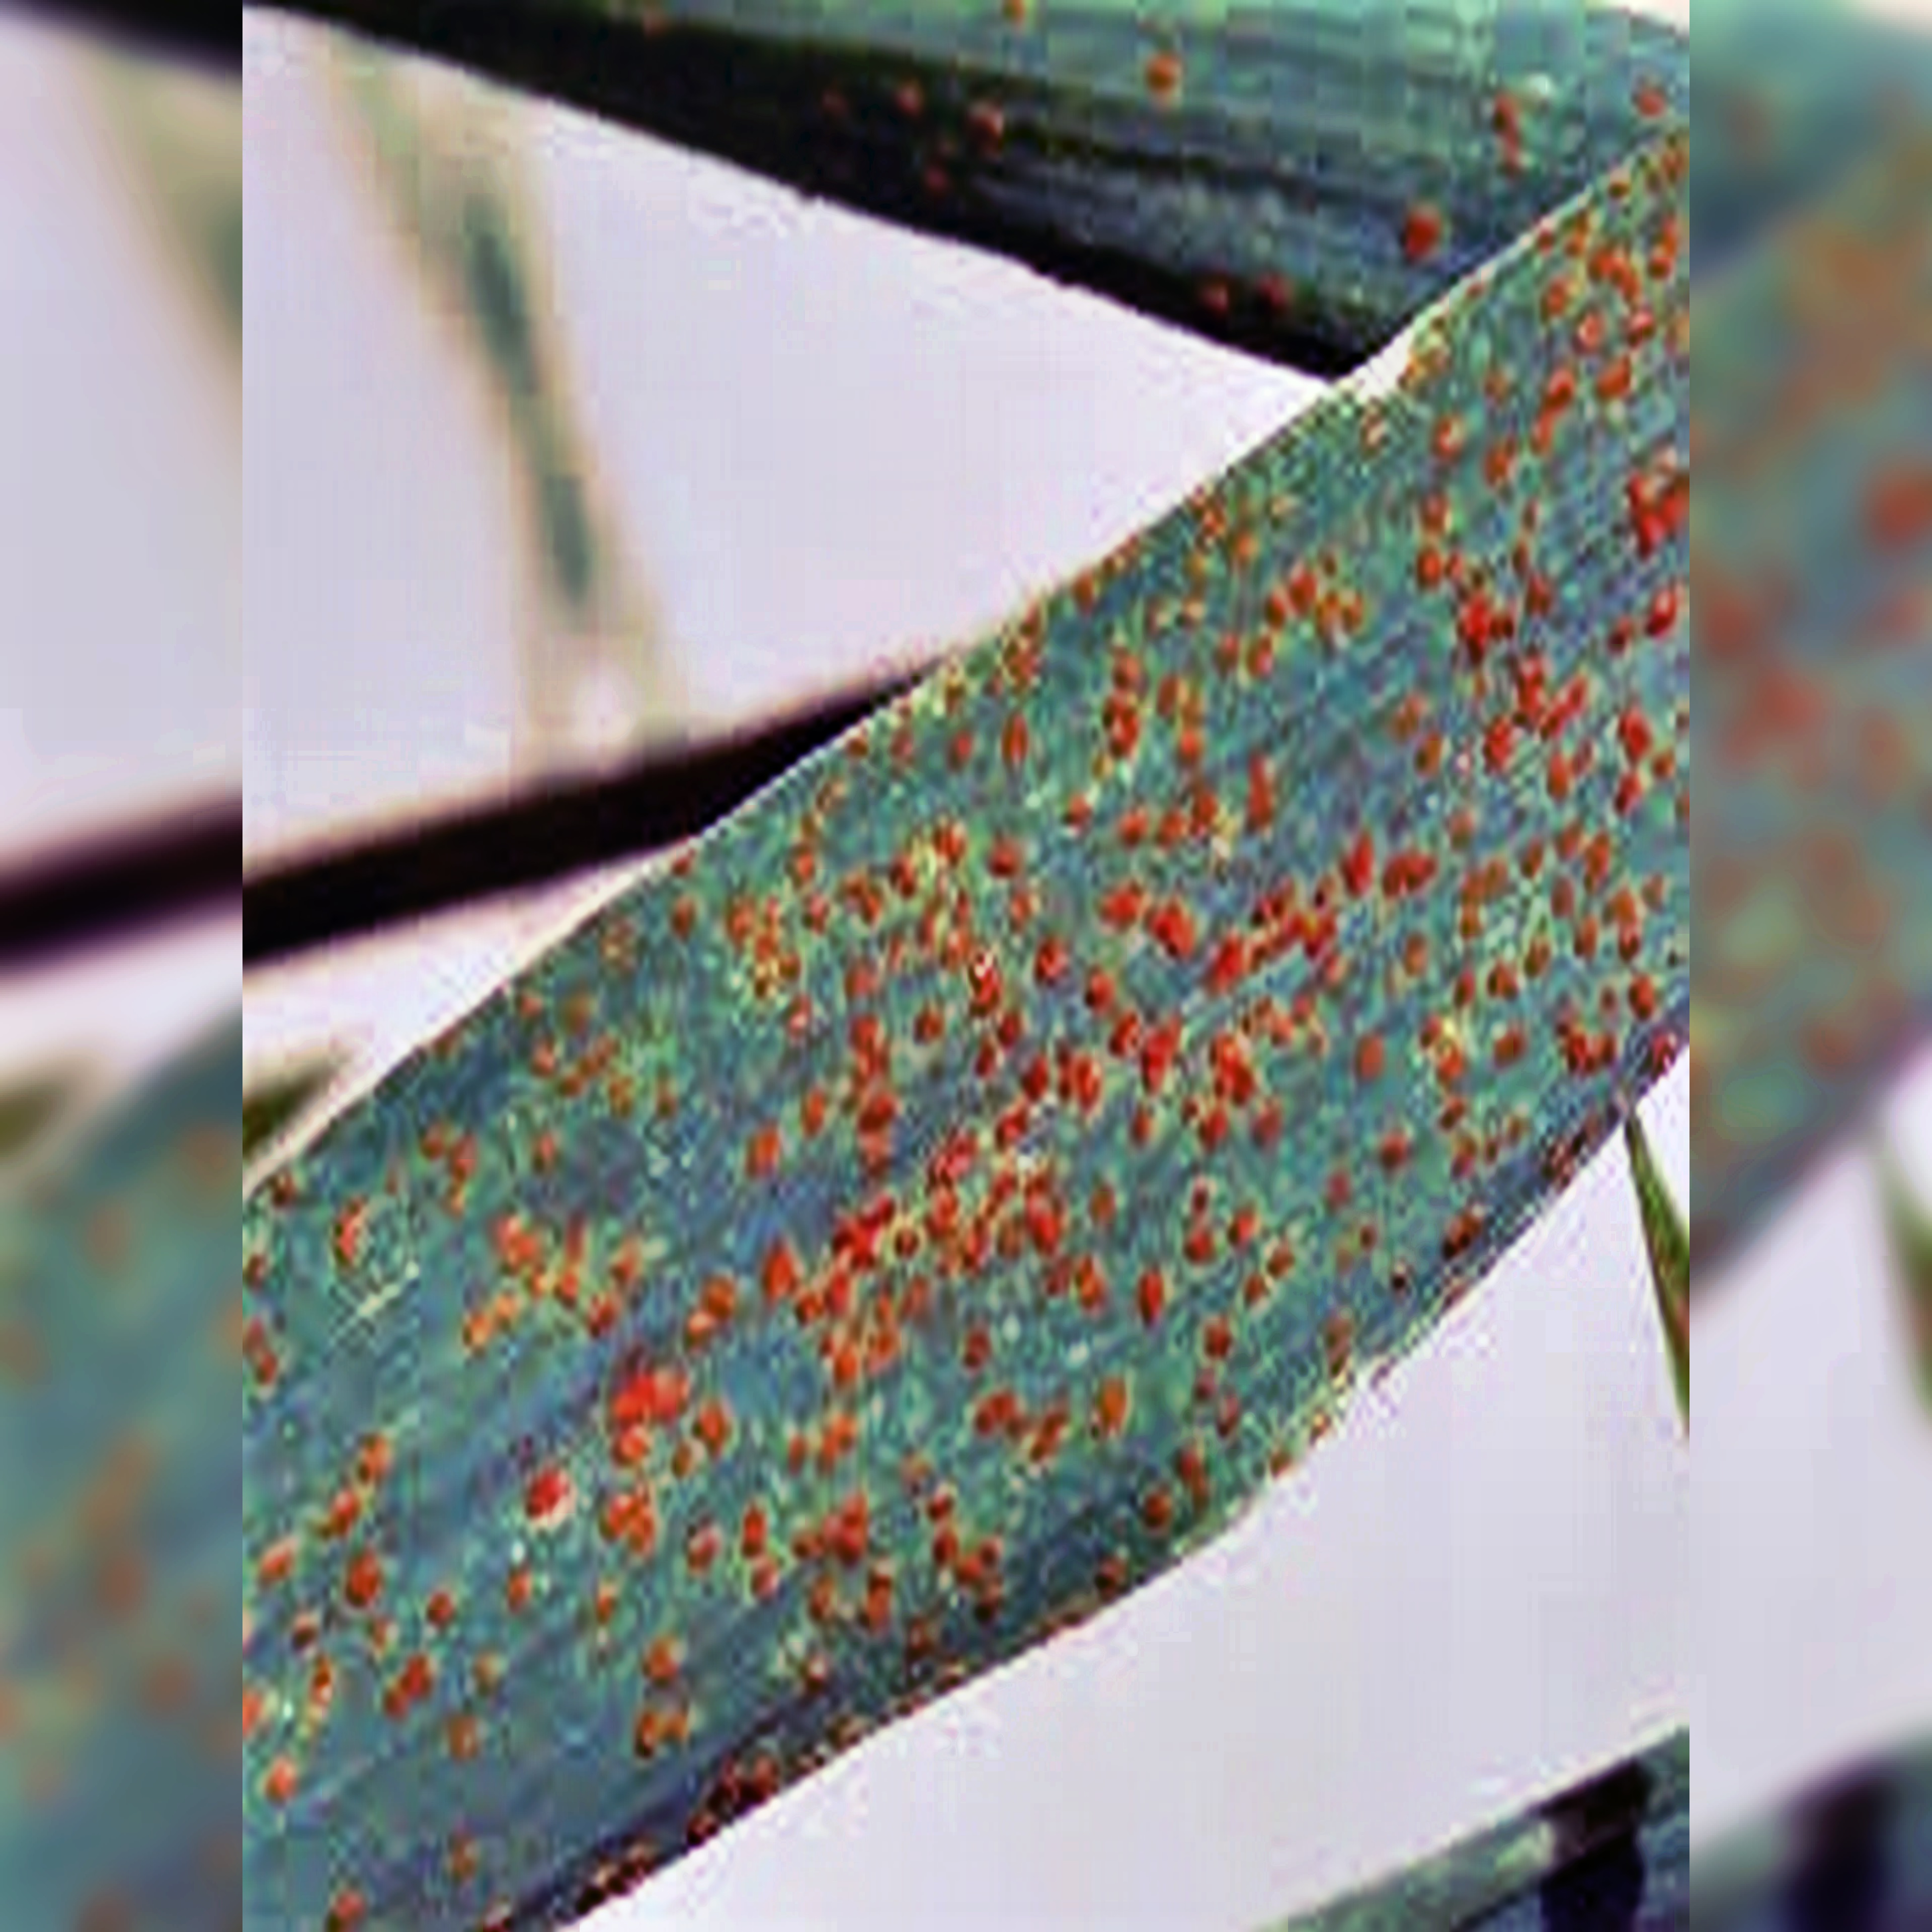Leaf Rust: (350, 313, 1672, 1815)
